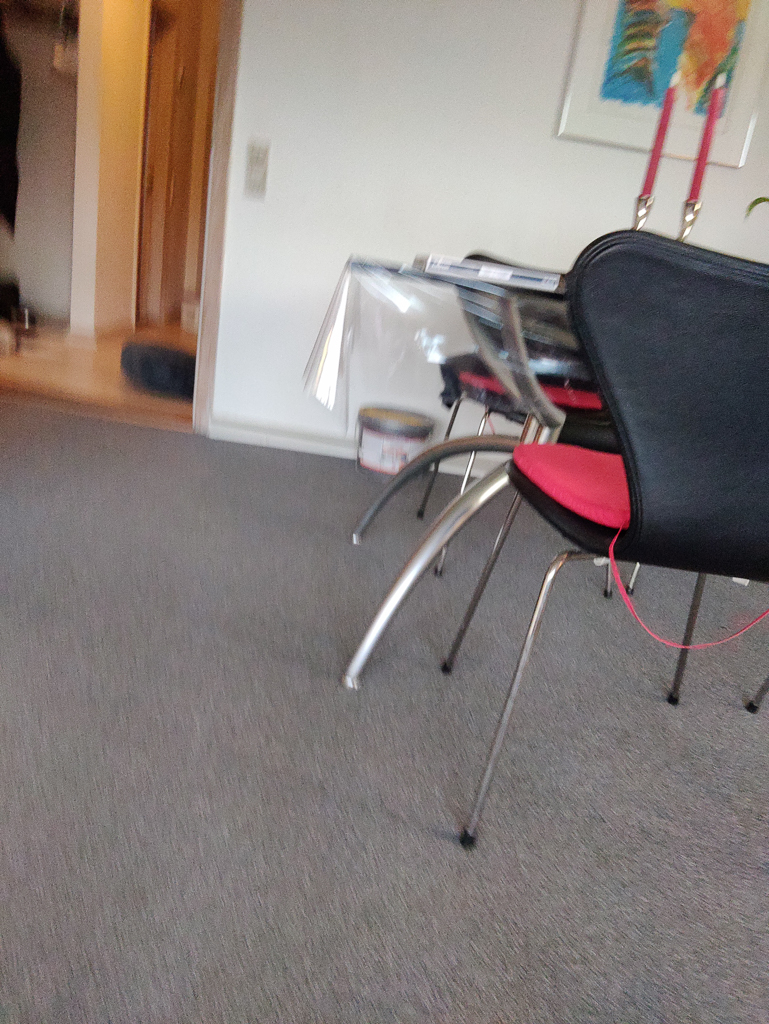Dog: (0, 300, 68, 369)
